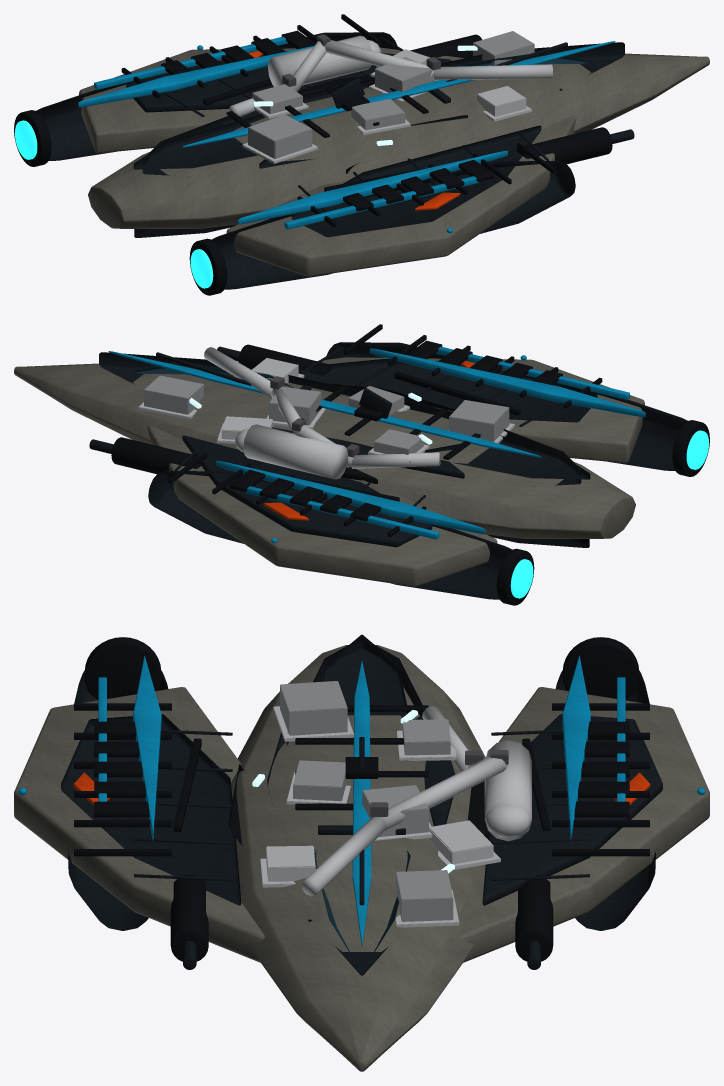
File: var_wasp_free_militia_v01.glb
3 renders of one model, top to bottom at view 1: azimuth 30°, elevation 25°; view 2: azimuth 150°, elevation 25°; view 3: azimuth 270°, elevation 25°, orthographic. The views are drawn at different scales.
Visible parts, largest first — view 1: LOD0_Hull, LOD0_Hull_Armor, LOD0_Mechanical, LOD0_Accent, VAR_FREE_conduit, VAR_FREE_plate5, VAR_FREE_pod, VAR_FREE_plate3, VAR_FREE_plate2, LOD0_Thruster, VAR_FREE_plate0, VAR_FREE_plate1 (+3 smaller); view 2: LOD0_Hull, LOD0_Hull_Armor, LOD0_Mechanical, LOD0_Accent, VAR_FREE_pod, VAR_FREE_conduit, VAR_FREE_plate5, VAR_FREE_plate0, LOD0_Thruster, VAR_FREE_plate2, VAR_FREE_plate4, VAR_FREE_patch (+4 smaller); view 3: LOD0_Hull, LOD0_Hull_Armor, LOD0_Mechanical, LOD0_Accent, VAR_FREE_conduit, VAR_FREE_plate5, VAR_FREE_pod, VAR_FREE_plate0, VAR_FREE_plate3, VAR_FREE_patch, VAR_FREE_plate4, VAR_FREE_plate2 (+2 smaller).
Boxes of the visible parts, x1,y1,x2,y2 form: LOD0_Hull: (79, 47, 709, 276); LOD0_Hull_Armor: (14, 32, 634, 289); LOD0_Mechanical: (14, 14, 612, 295); LOD0_Accent: (78, 36, 615, 233); VAR_FREE_conduit: (228, 40, 552, 116); VAR_FREE_plate5: (242, 114, 317, 163); VAR_FREE_pod: (268, 35, 381, 86); VAR_FREE_plate3: (351, 99, 410, 134); VAR_FREE_plate2: (369, 57, 432, 101); LOD0_Thruster: (15, 120, 213, 288); VAR_FREE_plate0: (473, 31, 534, 65); VAR_FREE_plate1: (477, 86, 531, 121); LOD0_Hull: (14, 357, 644, 586); LOD0_Hull_Armor: (89, 342, 709, 599); LOD0_Mechanical: (111, 324, 709, 605); LOD0_Accent: (108, 346, 645, 543); VAR_FREE_pod: (235, 424, 348, 479); VAR_FREE_conduit: (204, 347, 440, 468); VAR_FREE_plate5: (443, 400, 514, 443); VAR_FREE_plate0: (138, 375, 203, 419); LOD0_Thruster: (510, 430, 708, 598); VAR_FREE_plate2: (266, 386, 325, 429); VAR_FREE_plate4: (368, 429, 429, 463); VAR_FREE_patch: (217, 416, 273, 443); LOD0_Hull: (14, 645, 709, 1071); LOD0_Hull_Armor: (61, 634, 662, 975); LOD0_Mechanical: (74, 637, 649, 961); LOD0_Accent: (18, 655, 705, 946); VAR_FREE_conduit: (302, 706, 508, 896); VAR_FREE_plate5: (273, 681, 353, 741); VAR_FREE_pod: (484, 740, 531, 841); VAR_FREE_plate0: (395, 870, 459, 927); VAR_FREE_plate3: (286, 760, 350, 804); VAR_FREE_patch: (429, 820, 500, 869); VAR_FREE_plate4: (397, 719, 456, 760); VAR_FREE_plate2: (362, 785, 432, 840).
Size of what is drawn, in the model's own units: 22 by 3.7 by 16.16.
11 materials, 5 textured.
